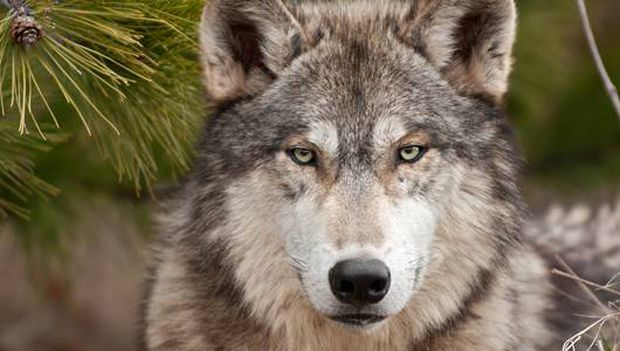wolf: (135, 22, 587, 351)
